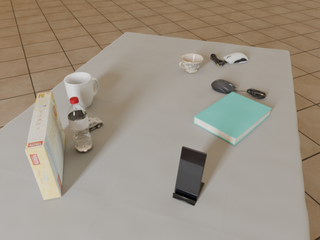book: (194, 92, 272, 145)
bottle: (67, 96, 93, 152)
box: (25, 92, 65, 200)
cup: (64, 72, 99, 108), (179, 54, 203, 73)
mouse: (211, 79, 236, 94), (224, 53, 248, 64)
phone: (175, 146, 207, 200)
toy_car: (88, 118, 103, 132)
